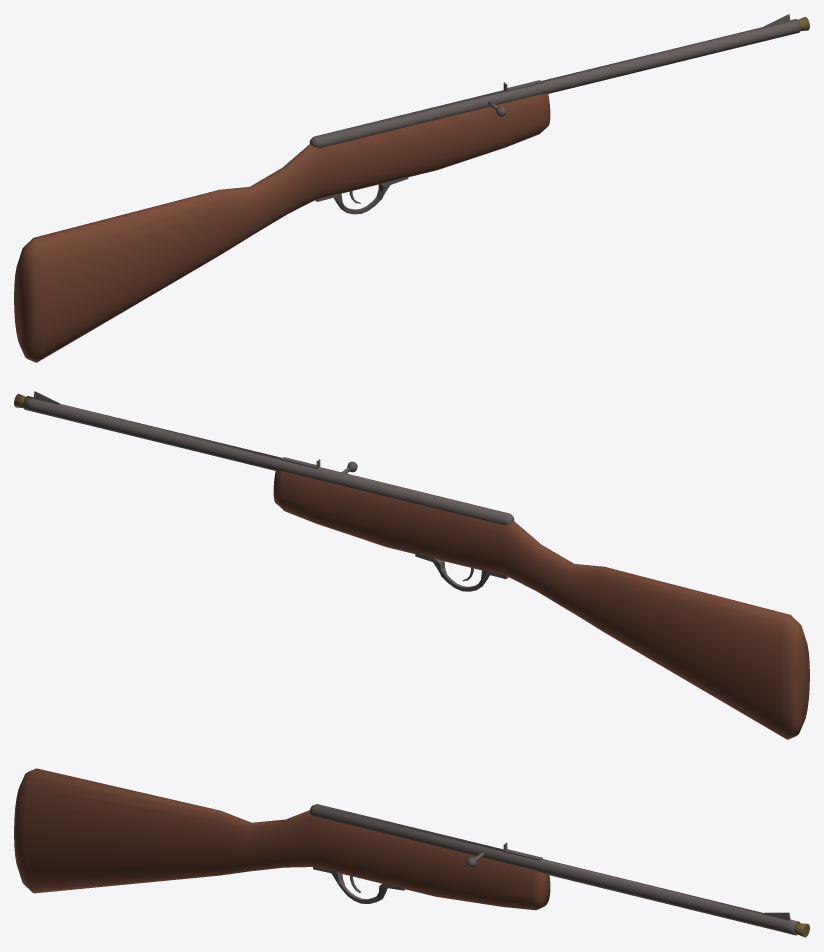
The model's file is コルク銃.fbx.
3 renders of one model, top to bottom at view 1: azimuth 30°, elevation 25°; view 2: azimuth 150°, elevation 25°; view 3: azimuth 330°, elevation 25°, orthographic.
Parts seen in each view (by area): view 1: コルク銃; view 2: コルク銃; view 3: コルク銃.
Part boxes in pixels (box(x1,y1,x2,y2)): コルク銃: box(14, 14, 809, 362); コルク銃: box(14, 391, 809, 739); コルク銃: box(14, 768, 809, 937).
Bounding box in the file's own units: 78.98 × 15.73 × 4.85.
Materials: 1 (1 with a texture image).
